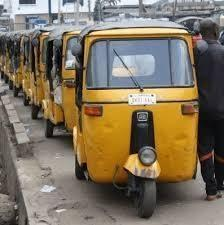keke: (43, 23, 210, 216), (75, 21, 202, 216)
